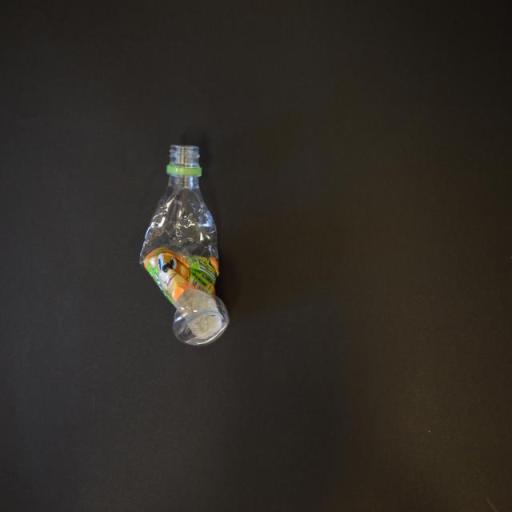plastic: (138, 143, 233, 349)
